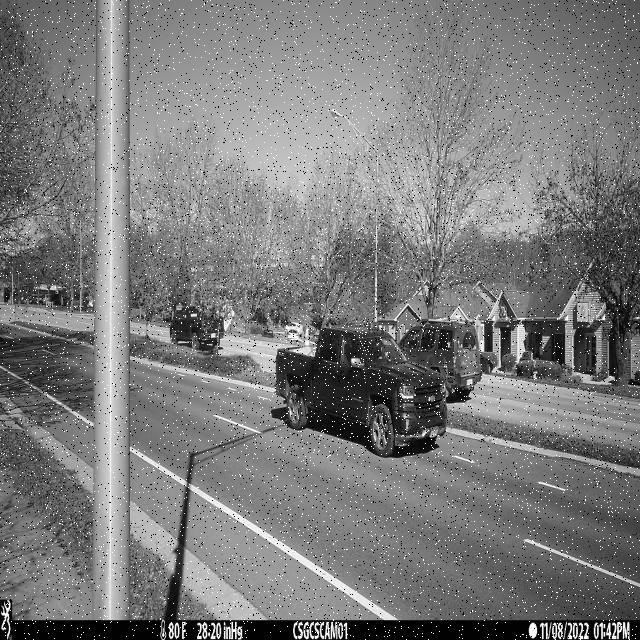Pickup: (274, 321, 447, 458)
